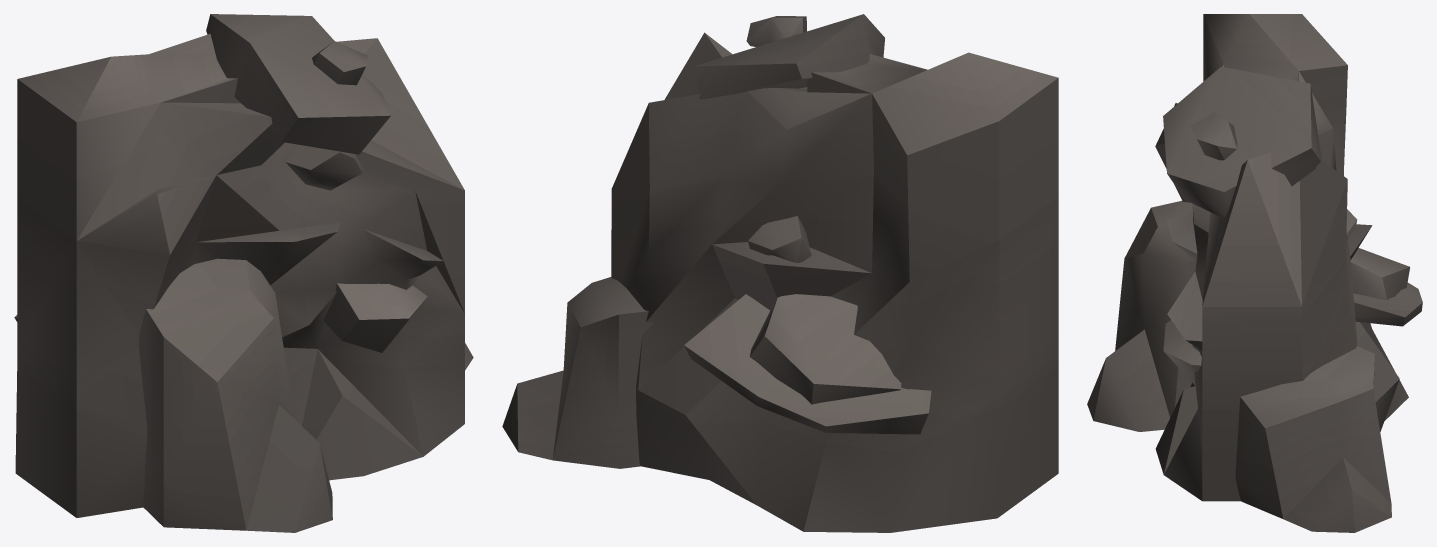
Rendered from decor-rubble.glb.
3 views of the same model, side by side, from view 1: azimuth 30°, elevation 25°; view 2: azimuth 150°, elevation 25°; view 3: azimuth 270°, elevation 25° (orthographic). The views are drawn at different scales.
Parts seen in each view (by area): view 1: rubble_half; view 2: rubble_half; view 3: rubble_half.
Part boxes in pixels (x1,y1,x2,y2): rubble_half: (14,14,473,532); rubble_half: (502,14,1058,532); rubble_half: (1087,14,1422,532).
Size of the model in its own units: 4 by 3.5 by 3.
Materials: 1 (1 with a texture image).
